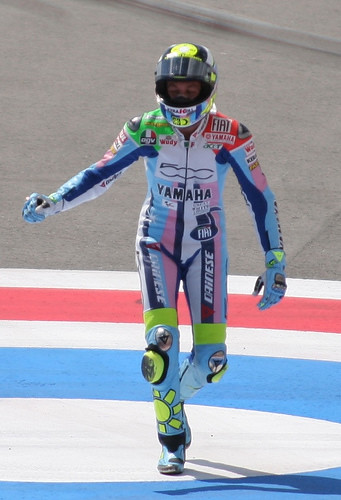helmet: (150, 39, 225, 128)
